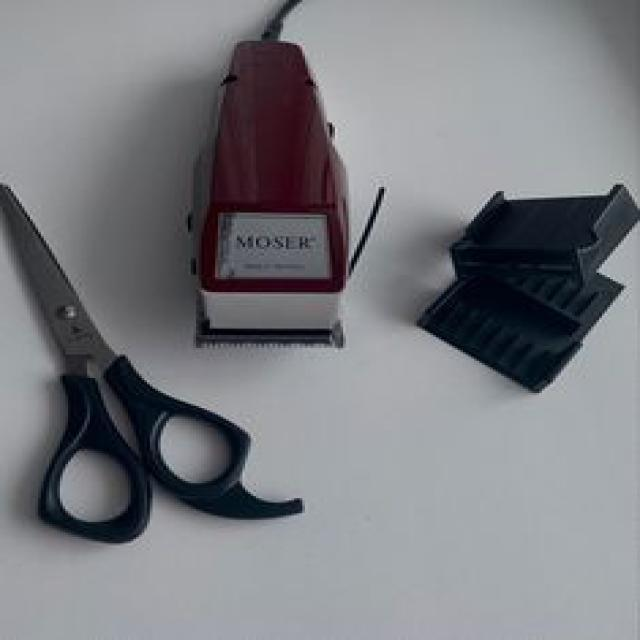tesoura: (0, 159, 339, 569)
